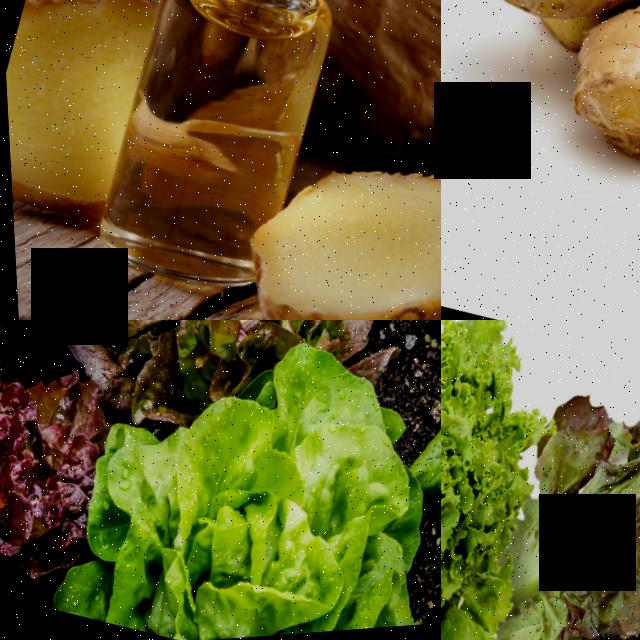ginger: (441, 0, 640, 287)
lettuce: (41, 345, 441, 640), (441, 320, 577, 640)
